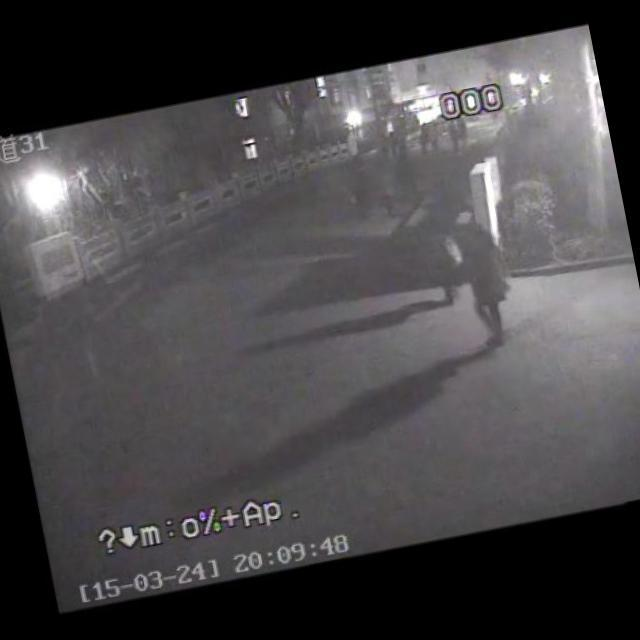person: (453, 206, 521, 356), (420, 217, 476, 306), (368, 154, 403, 228), (389, 142, 427, 205), (340, 159, 378, 221), (444, 121, 465, 158), (416, 124, 441, 154)
